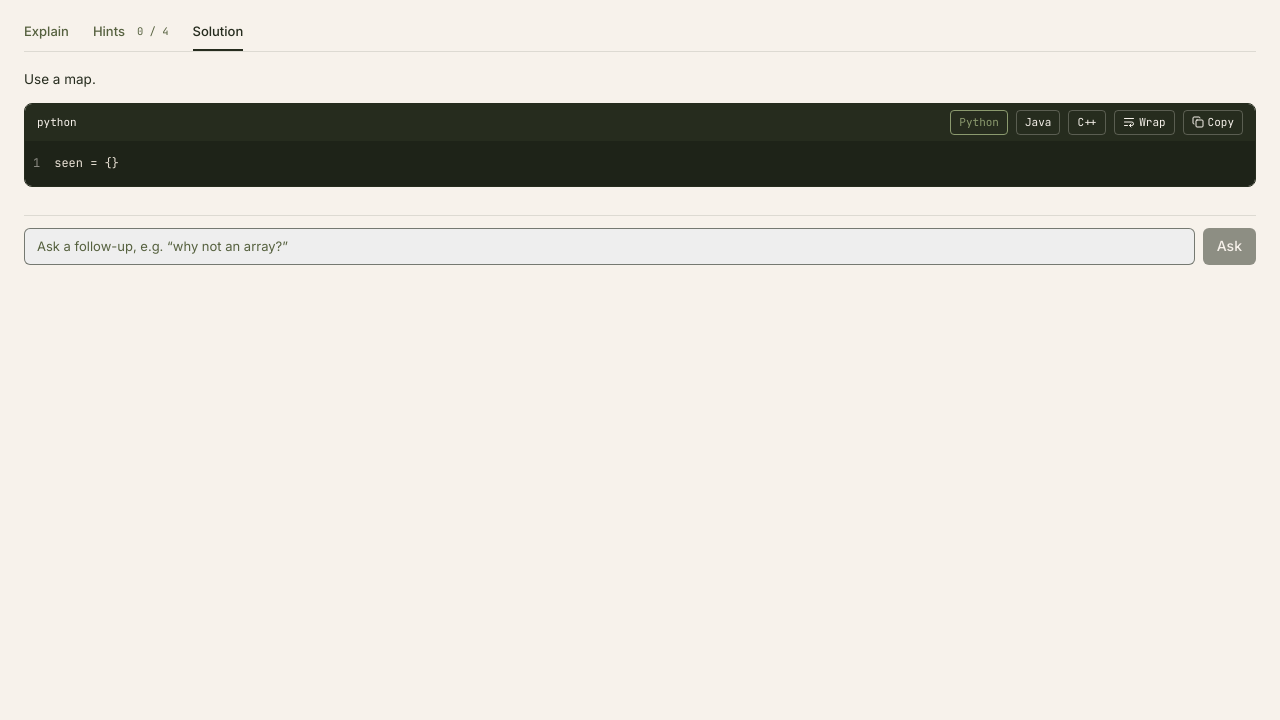
it: MentorPanel › codeBlockCopyShowsToast
Step 1. Click the button with aria-label "Copy code" → (1213, 122), box [1183,110,1243,135]
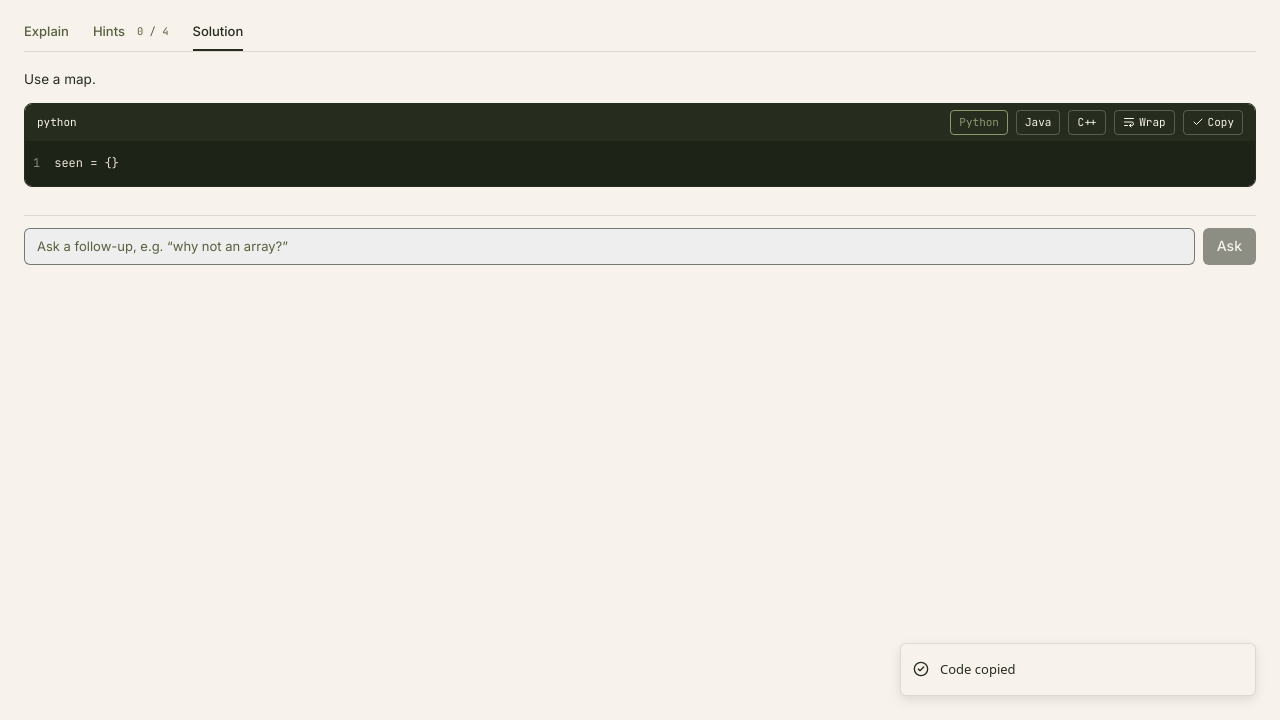
Check: the text "Code copied" is shown, box [940,660,1016,679]
